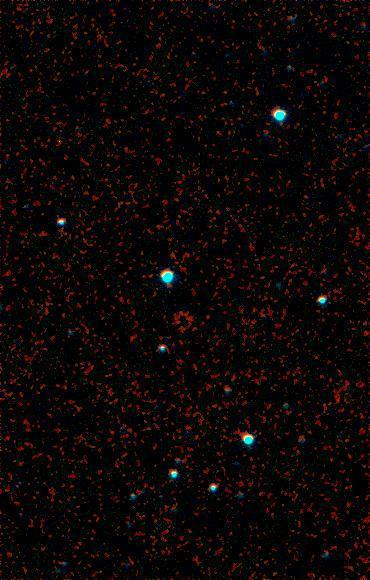star: (167, 313, 197, 343)
